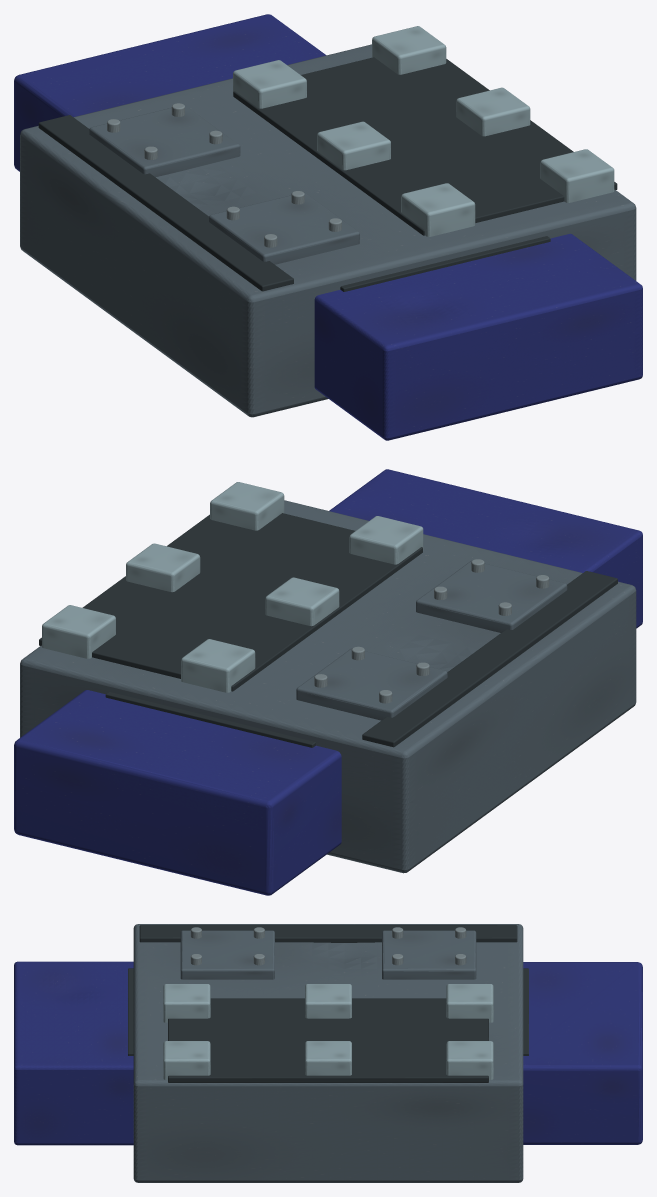
3 renders of one model, top to bottom at view 1: azimuth 30°, elevation 25°; view 2: azimuth 150°, elevation 25°; view 3: azimuth 270°, elevation 25°, orthographic. The views are drawn at different scales.
Parts seen in each view (by area): view 1: Mauna Ore Dissolver central casing, Mauna Ore Dissolver forward terminal, Mauna Ore Dissolver dark patterned backing, Mauna Ore Dissolver rear terminal, Mauna Ore Dissolver dark longitudinal field, Mauna Ore Dissolver service cover 1, Mauna Ore Dissolver service cover 0, Mauna Ore Dissolver pale pad 1 0, Mauna Ore Dissolver pale pad 0 0, Mauna Ore Dissolver pale pad 1 1, Mauna Ore Dissolver pale pad 1 2, Mauna Ore Dissolver pale pad 0 2 (+2 smaller); view 2: Mauna Ore Dissolver central casing, Mauna Ore Dissolver rear terminal, Mauna Ore Dissolver dark patterned backing, Mauna Ore Dissolver forward terminal, Mauna Ore Dissolver dark longitudinal field, Mauna Ore Dissolver service cover 1, Mauna Ore Dissolver service cover 0, Mauna Ore Dissolver pale pad 0 2, Mauna Ore Dissolver pale pad 1 2, Mauna Ore Dissolver pale pad 0 0, Mauna Ore Dissolver pale pad 1 0, Mauna Ore Dissolver pale pad 0 1 (+2 smaller); view 3: Mauna Ore Dissolver central casing, Mauna Ore Dissolver forward terminal, Mauna Ore Dissolver rear terminal, Mauna Ore Dissolver dark patterned backing, Mauna Ore Dissolver dark longitudinal field, Mauna Ore Dissolver service cover 0, Mauna Ore Dissolver service cover 1, Mauna Ore Dissolver pale pad 0 0, Mauna Ore Dissolver pale pad 0 2, Mauna Ore Dissolver pale pad 1 0, Mauna Ore Dissolver pale pad 1 2, Mauna Ore Dissolver pale pad 0 1 (+3 smaller).
Part boxes in pixels (x1=…): Mauna Ore Dissolver central casing: x1=20, y1=44, x2=636, y2=417; Mauna Ore Dissolver forward terminal: x1=314, y1=233, x2=642, y2=440; Mauna Ore Dissolver dark patterned backing: x1=233, y1=57, x2=617, y2=235; Mauna Ore Dissolver rear terminal: x1=14, y1=14, x2=326, y2=171; Mauna Ore Dissolver dark longitudinal field: x1=38, y1=115, x2=293, y2=291; Mauna Ore Dissolver service cover 1: x1=89, y1=105, x2=240, y2=177; Mauna Ore Dissolver service cover 0: x1=209, y1=192, x2=359, y2=264; Mauna Ore Dissolver pale pad 1 0: x1=540, y1=149, x2=614, y2=202; Mauna Ore Dissolver pale pad 0 0: x1=401, y1=183, x2=475, y2=236; Mauna Ore Dissolver pale pad 1 1: x1=456, y1=87, x2=530, y2=136; Mauna Ore Dissolver pale pad 1 2: x1=372, y1=26, x2=446, y2=74; Mauna Ore Dissolver pale pad 0 2: x1=233, y1=60, x2=306, y2=108; Mauna Ore Dissolver central casing: x1=20, y1=500, x2=636, y2=873; Mauna Ore Dissolver rear terminal: x1=14, y1=690, x2=341, y2=895; Mauna Ore Dissolver dark patterned backing: x1=39, y1=513, x2=422, y2=691; Mauna Ore Dissolver forward terminal: x1=329, y1=469, x2=642, y2=628; Mauna Ore Dissolver dark longitudinal field: x1=362, y1=571, x2=617, y2=747; Mauna Ore Dissolver service cover 1: x1=296, y1=648, x2=447, y2=720; Mauna Ore Dissolver service cover 0: x1=416, y1=560, x2=567, y2=632; Mauna Ore Dissolver pale pad 0 2: x1=181, y1=639, x2=255, y2=692; Mauna Ore Dissolver pale pad 1 2: x1=42, y1=605, x2=115, y2=658; Mauna Ore Dissolver pale pad 0 0: x1=349, y1=516, x2=423, y2=564; Mauna Ore Dissolver pale pad 1 0: x1=210, y1=482, x2=284, y2=530; Mauna Ore Dissolver pale pad 0 1: x1=265, y1=577, x2=339, y2=626; Mauna Ore Dissolver central casing: x1=133, y1=924, x2=523, y2=1182; Mauna Ore Dissolver forward terminal: x1=14, y1=961, x2=133, y2=1145; Mauna Ore Dissolver rear terminal: x1=523, y1=962, x2=642, y2=1144; Mauna Ore Dissolver dark patterned backing: x1=168, y1=998, x2=488, y2=1082; Mauna Ore Dissolver dark longitudinal field: x1=139, y1=925, x2=517, y2=942; Mauna Ore Dissolver service cover 0: x1=180, y1=930, x2=274, y2=979; Mauna Ore Dissolver service cover 1: x1=382, y1=930, x2=476, y2=979; Mauna Ore Dissolver pale pad 0 0: x1=163, y1=984, x2=210, y2=1022; Mauna Ore Dissolver pale pad 0 2: x1=446, y1=984, x2=493, y2=1022; Mauna Ore Dissolver pale pad 1 0: x1=163, y1=1041, x2=210, y2=1079; Mauna Ore Dissolver pale pad 1 2: x1=446, y1=1041, x2=493, y2=1079; Mauna Ore Dissolver pale pad 0 1: x1=305, y1=984, x2=351, y2=1018.
Bounding box in the file's own units: 1.2 × 0.4425 × 2.
5 materials, 3 textured.
